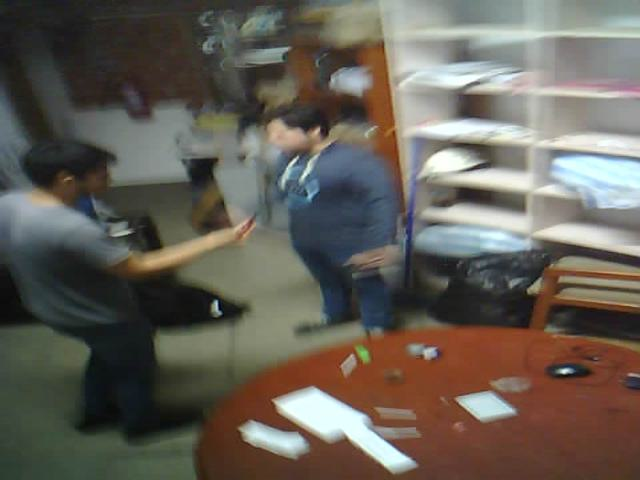person: (5, 109, 274, 457), (245, 67, 446, 365)
